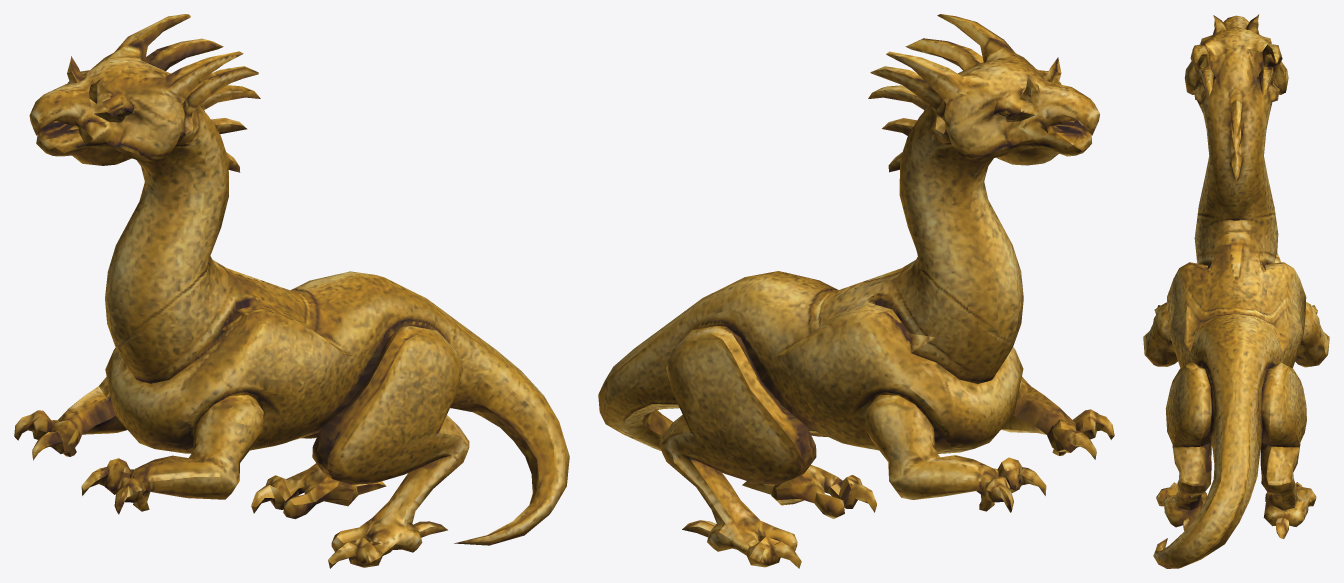
Rendered from item_statuet5.glb.
3 views of the same model, side by side, from view 1: azimuth 30°, elevation 25°; view 2: azimuth 150°, elevation 25°; view 3: azimuth 270°, elevation 25° (orthographic). The views are drawn at different scales.
Parts seen in each view (by area): view 1: sculpture_statuet5; view 2: sculpture_statuet5; view 3: sculpture_statuet5.
Boxes of the visible parts, box(x1,y1,x2,y2) form: sculpture_statuet5: box(14, 14, 569, 568); sculpture_statuet5: box(598, 14, 1114, 568); sculpture_statuet5: box(1143, 14, 1329, 568).
Bounding box in the file's own units: 1 × 1 × 0.4139.
Materials: 1 (1 with a texture image).
